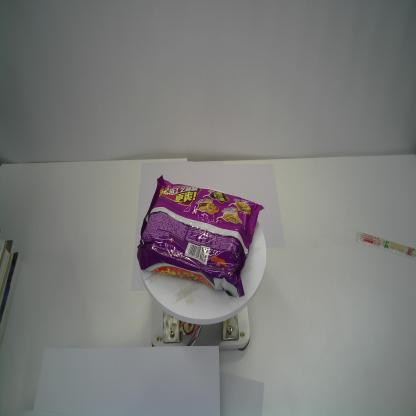Instant Noodles: (134, 175, 264, 299)
